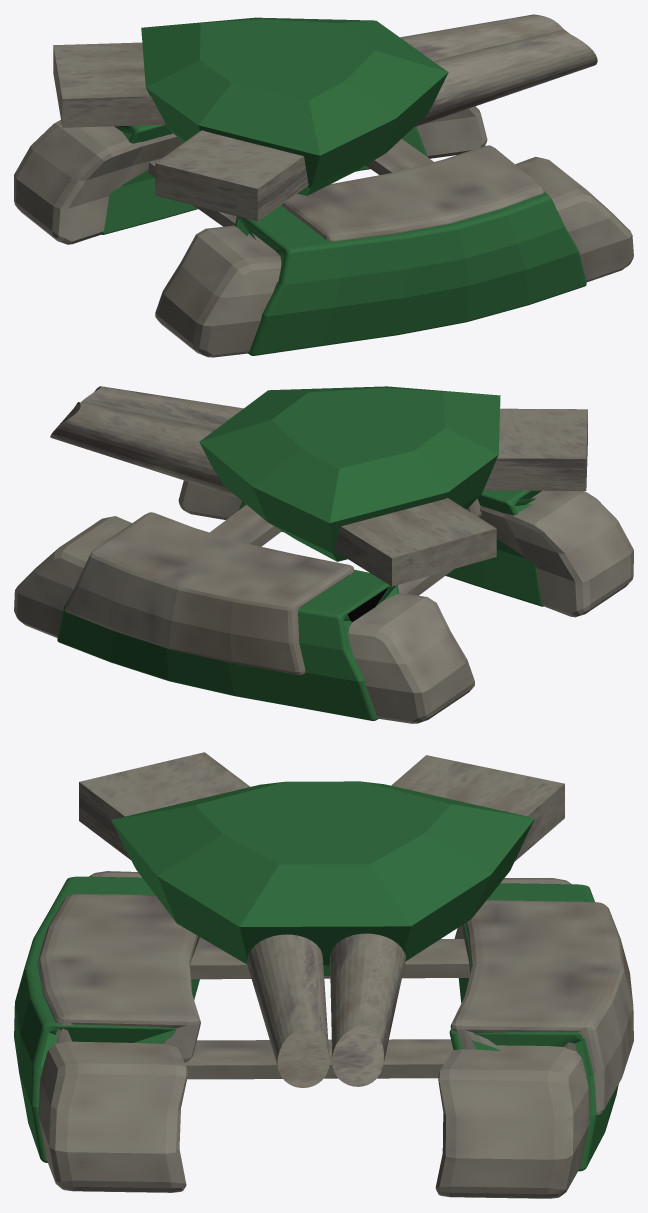
File: 棱镜坦克.fbx
The picture shows the model from 3 angles, top to bottom: view 1: azimuth 30°, elevation 25°; view 2: azimuth 150°, elevation 25°; view 3: azimuth 270°, elevation 25°; orthographic projection. The views are drawn at different scales.
Parts seen in each view (by area): view 1: Prismtank_Tracehousing1_Baked, Prismtank_body_Baked, Prismtank_Caterpillar track_Baked, Prismtank_back_Baked, Prismtank_Trackhousing2_Baked, Prismtank_cannon_Baked, Prismtank_joint_Baked; view 2: Prismtank_body_Baked, Prismtank_Caterpillar track_Baked, Prismtank_Trackhousing2_Baked, Prismtank_Tracehousing1_Baked, Prismtank_back_Baked, Prismtank_cannon_Baked, Prismtank_joint_Baked; view 3: Prismtank_body_Baked, Prismtank_Trackhousing2_Baked, Prismtank_Caterpillar track_Baked, Prismtank_cannon_Baked, Prismtank_back_Baked, Prismtank_Tracehousing1_Baked, Prismtank_joint_Baked.
Boxes of the visible parts, box(x1,y1,x2,y2) form: Prismtank_Tracehousing1_Baked: box(101, 124, 586, 355); Prismtank_body_Baked: box(141, 17, 448, 195); Prismtank_Caterpillar track_Baked: box(14, 106, 633, 357); Prismtank_back_Baked: box(53, 42, 308, 221); Prismtank_Trackhousing2_Baked: box(281, 145, 544, 241); Prismtank_cannon_Baked: box(400, 14, 597, 127); Prismtank_joint_Baked: box(148, 139, 433, 226); Prismtank_body_Baked: box(199, 386, 500, 561); Prismtank_Caterpillar track_Baked: box(14, 480, 633, 723); Prismtank_Trackhousing2_Baked: box(65, 498, 481, 674); Prismtank_Tracehousing1_Baked: box(57, 490, 543, 720); Prismtank_back_Baked: box(334, 408, 587, 586); Prismtank_cannon_Baked: box(50, 386, 243, 497); Prismtank_joint_Baked: box(210, 504, 453, 595); Prismtank_body_Baked: box(111, 781, 534, 975); Prismtank_Trackhousing2_Baked: box(37, 894, 633, 1115); Prismtank_Caterpillar track_Baked: box(38, 871, 589, 1198); Prismtank_cannon_Baked: box(247, 933, 405, 1087); Prismtank_back_Baked: box(79, 752, 564, 861); Prismtank_Tracehousing1_Baked: box(14, 876, 618, 1171); Prismtank_joint_Baked: box(185, 939, 470, 1079).
Size of the model in its own units: 114 by 44.11 by 106.
Materials: 1 (1 with a texture image).
